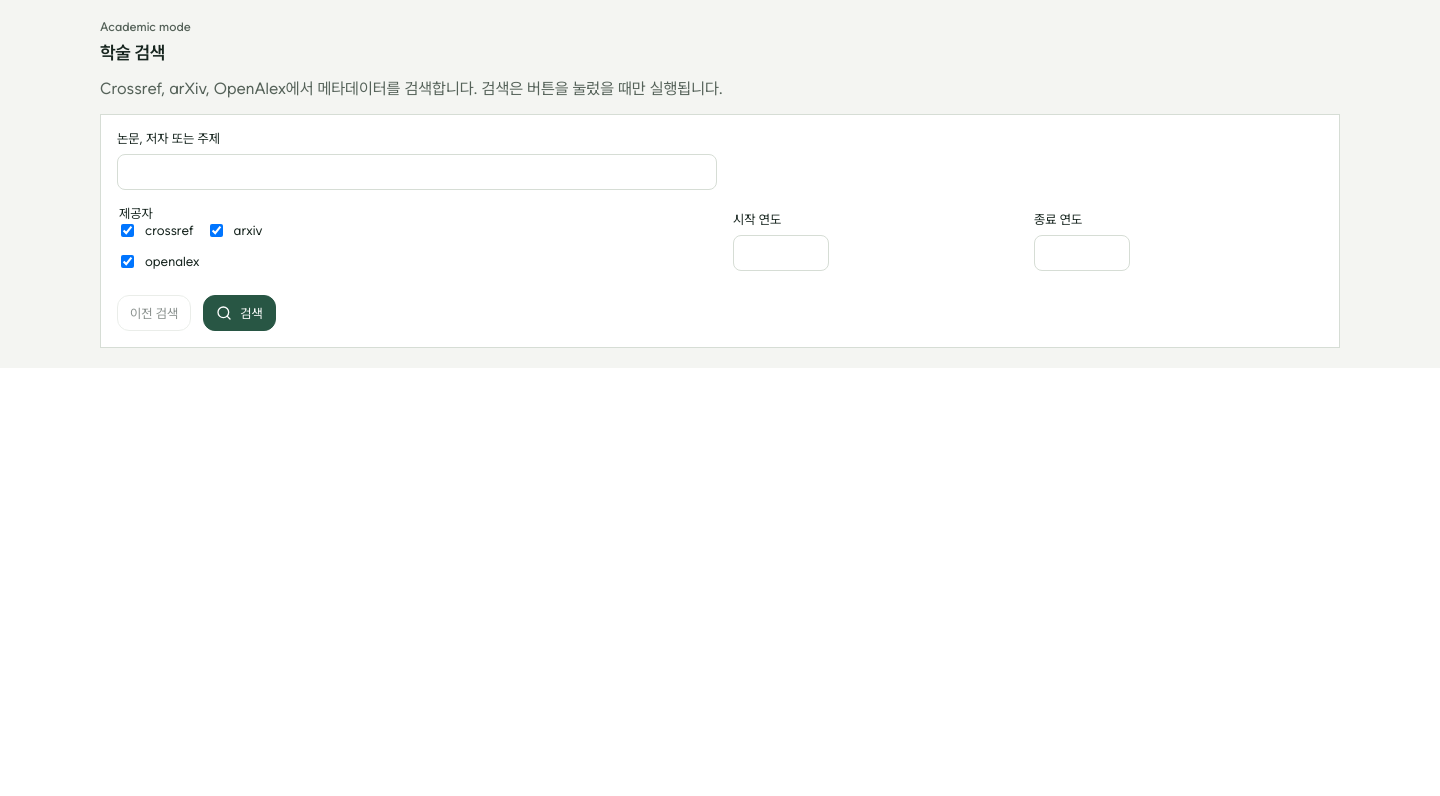
Test: SearchView › restores the previous query, results, and selection without fetching again
In the search field: coordinates (417, 172) [117,154,717,190], type "first"
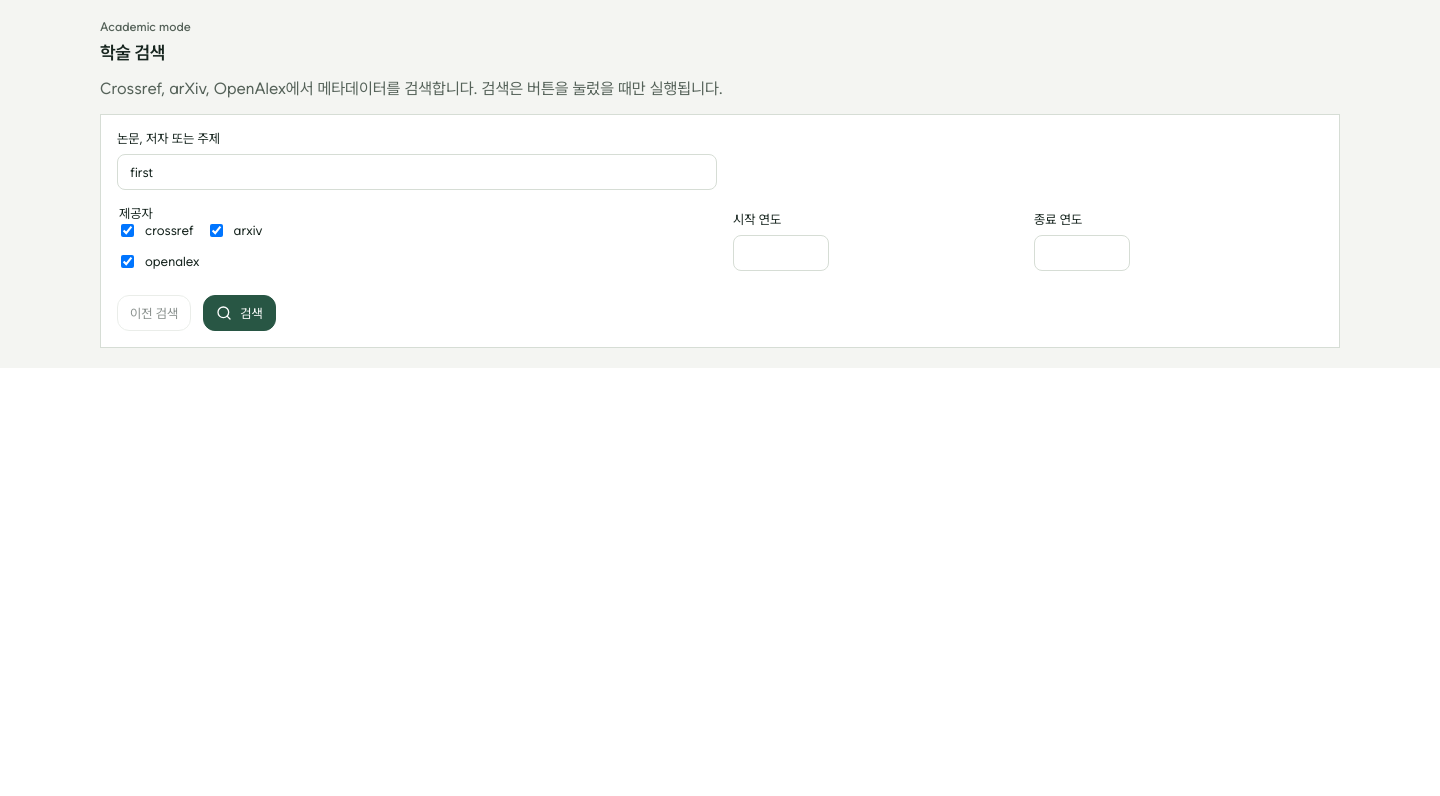
Click the button "검색": coordinates (239, 313) [203,295,276,331]
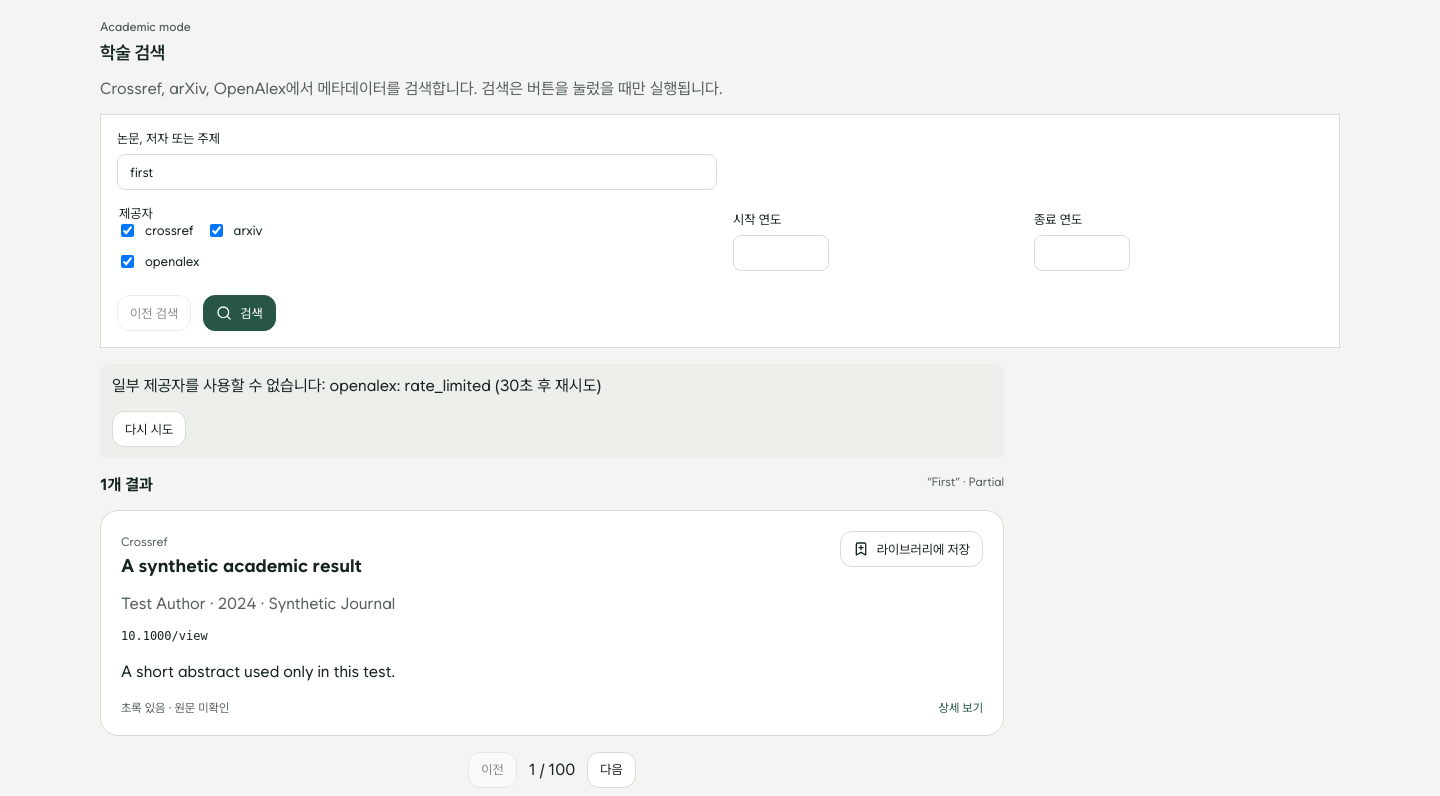
expect the heading "A synthetic academic result" is shown: met, box [121,554,362,578]
Click the button "상세 보기": coordinates (961, 708) [938,701,983,715]
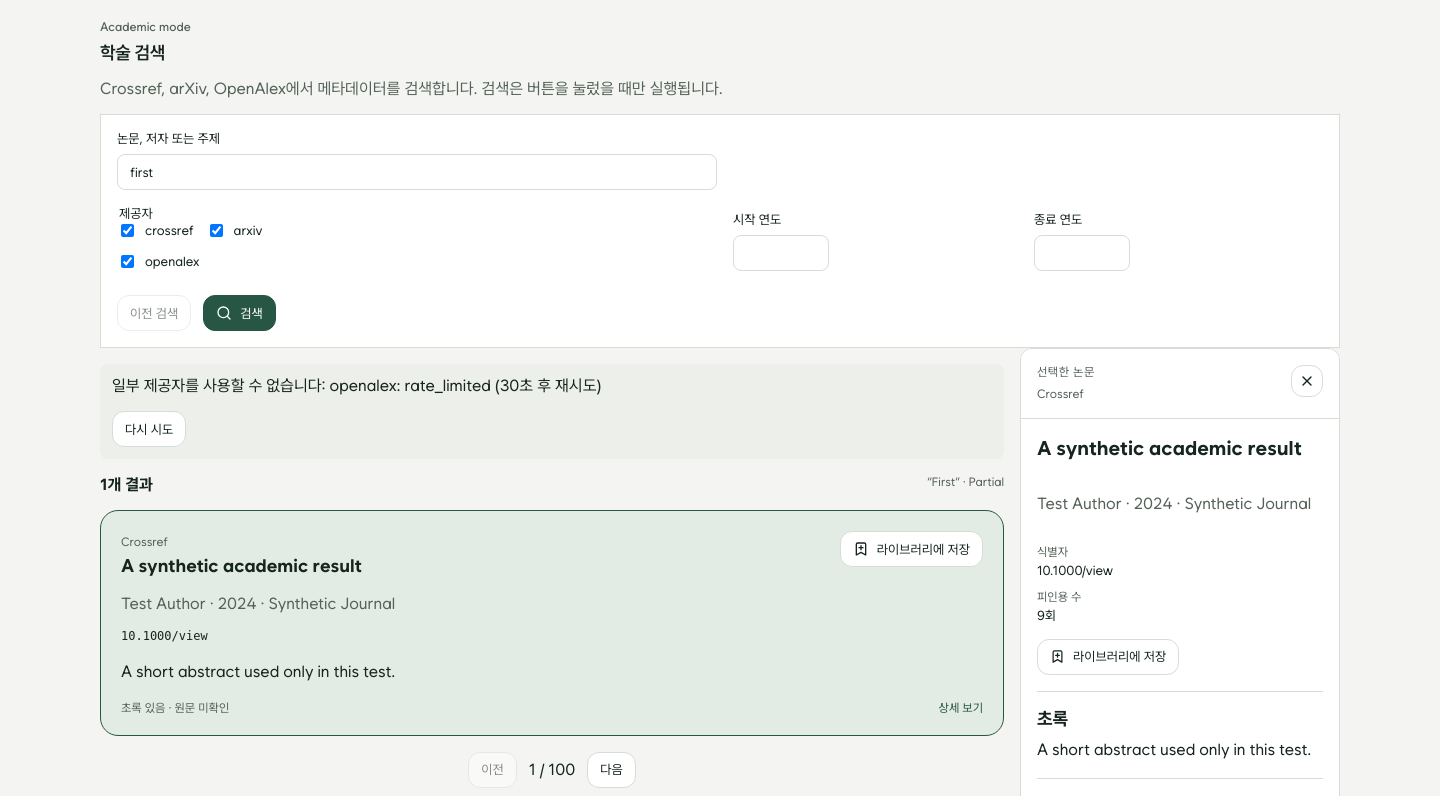
Replace the text in the search field with "second": coordinates (417, 172) [117,154,717,190]
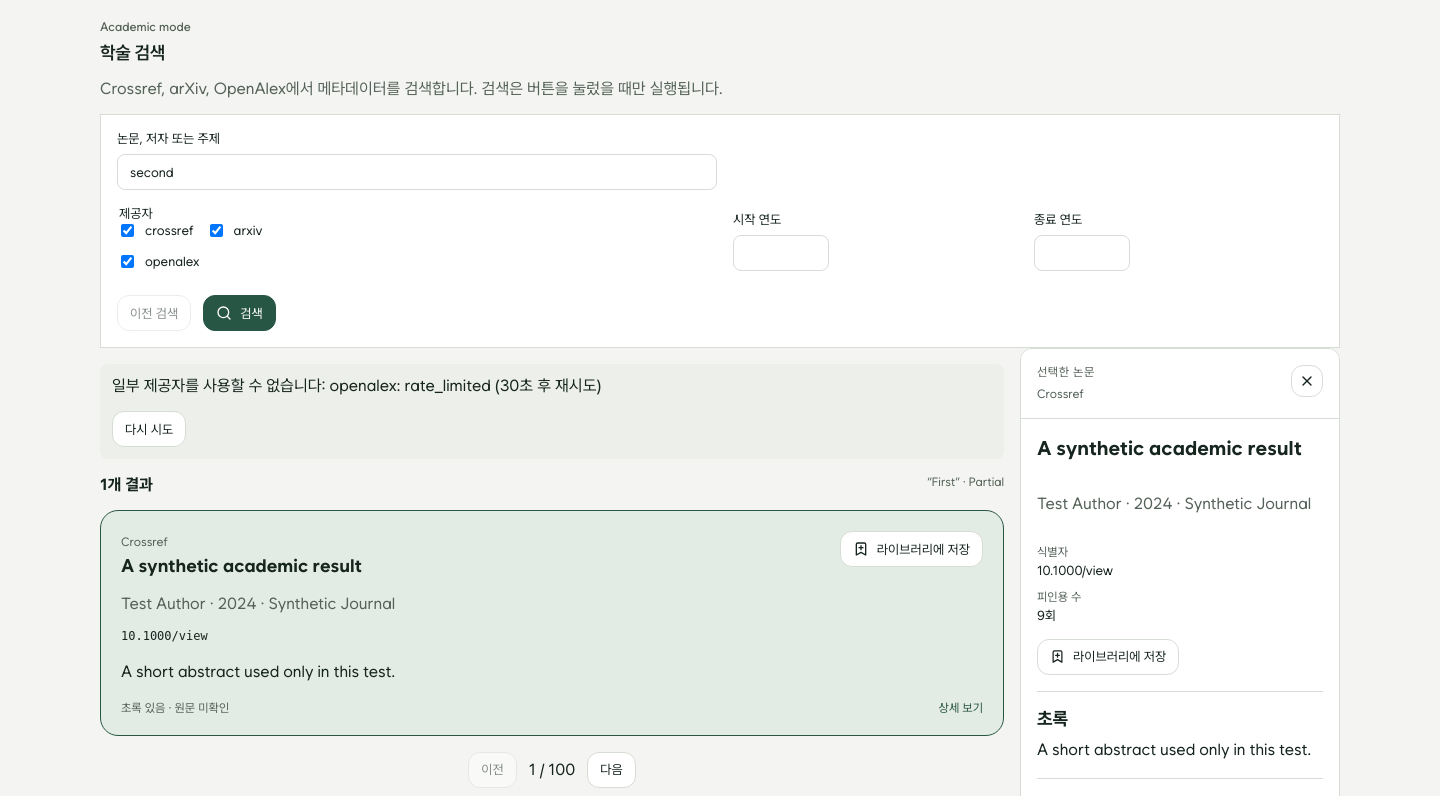
Click the button "검색": coordinates (239, 313) [203,295,276,331]
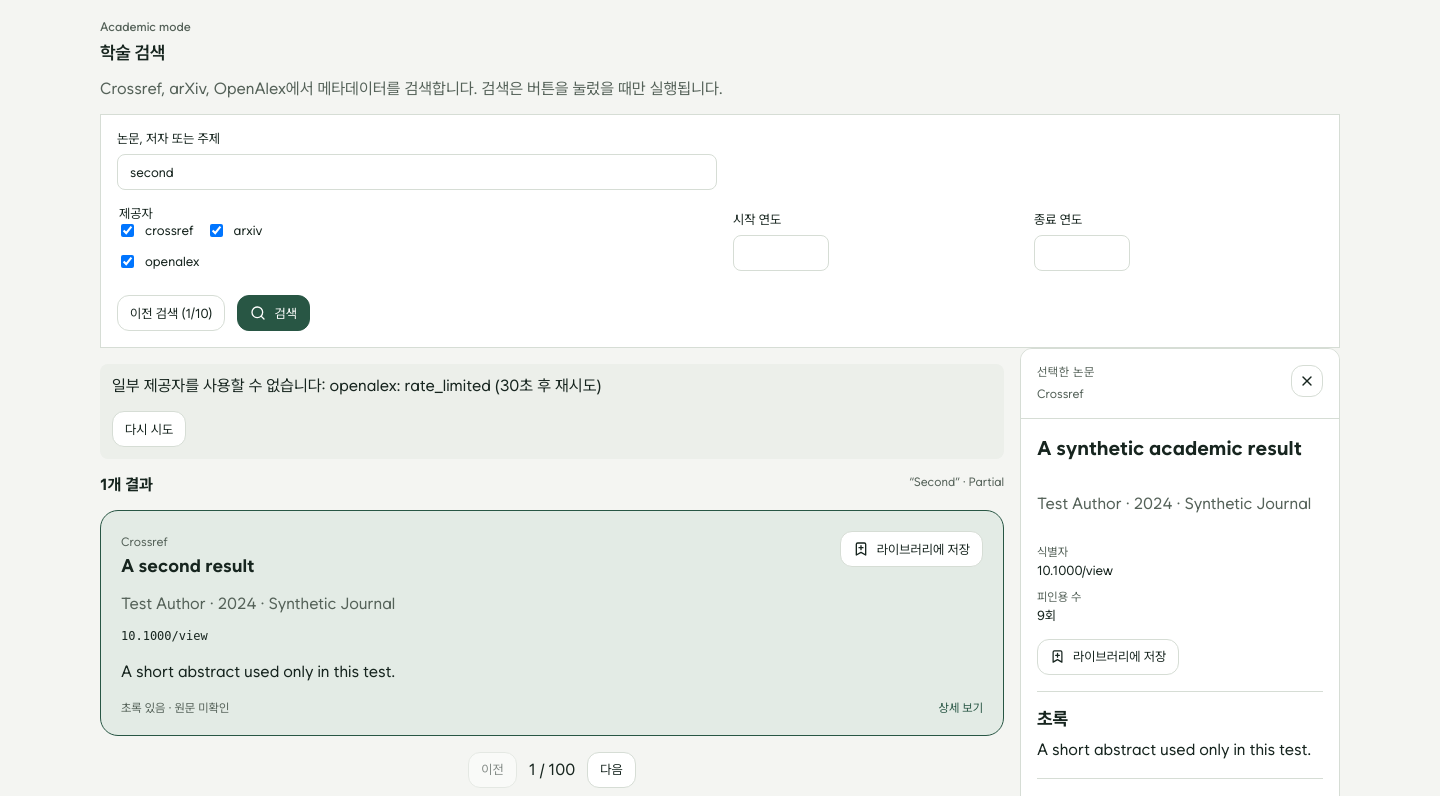
expect the heading "A second result" is shown: met, box [121,554,254,578]
Click the button "이전 검색 (1/10)": coordinates (171, 313) [117,295,225,331]
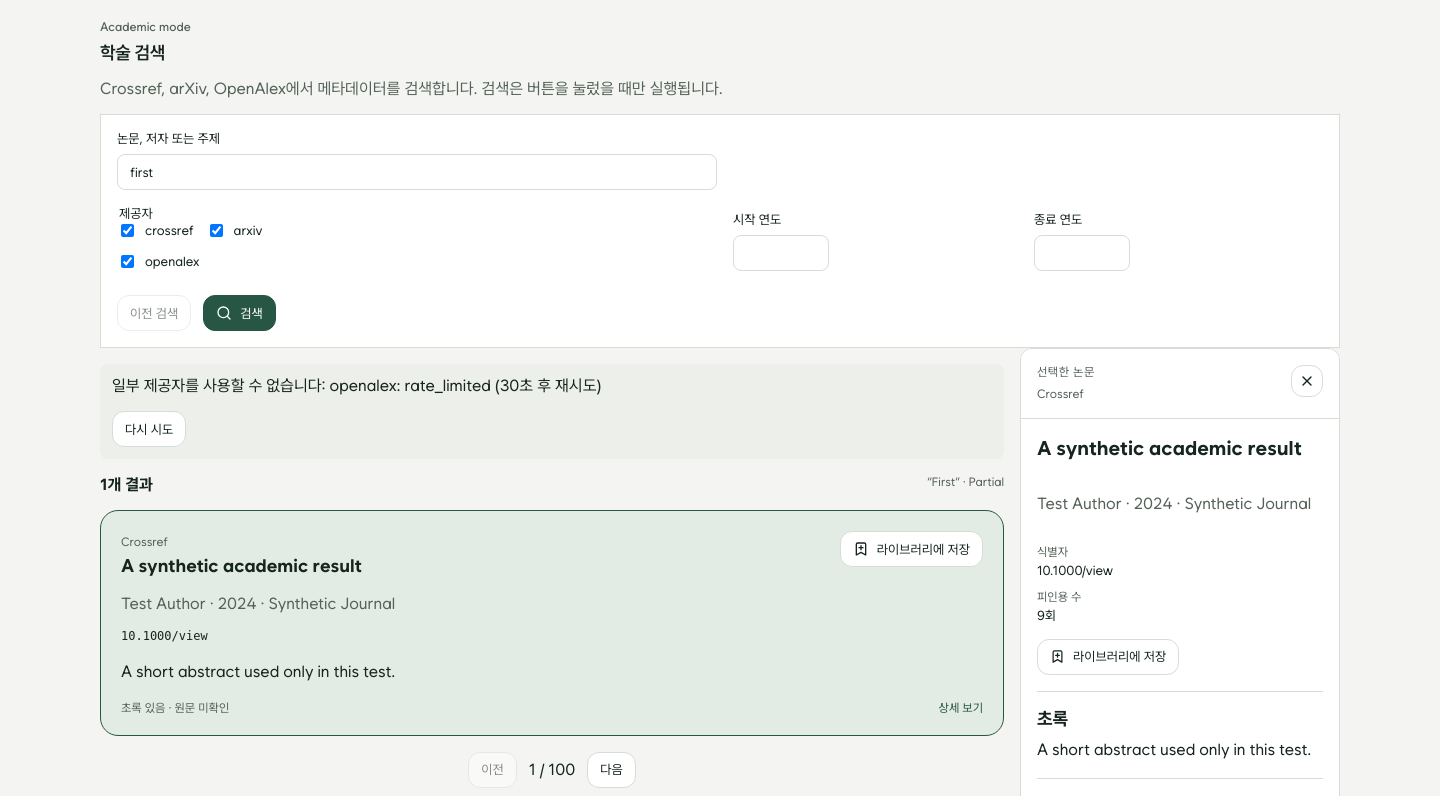
expect the element named "선택한 논문 상세" shows "A synthetic academic result": met, box [1037,436,1302,460]
expect the text "“first” · partial" is shown: met, box [927,475,1004,489]
